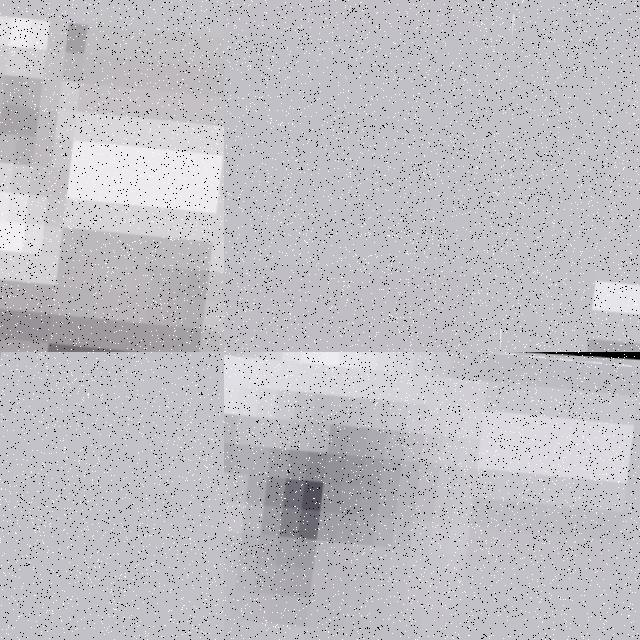drone: (224, 352, 640, 640), (0, 0, 224, 352), (496, 0, 640, 352)
